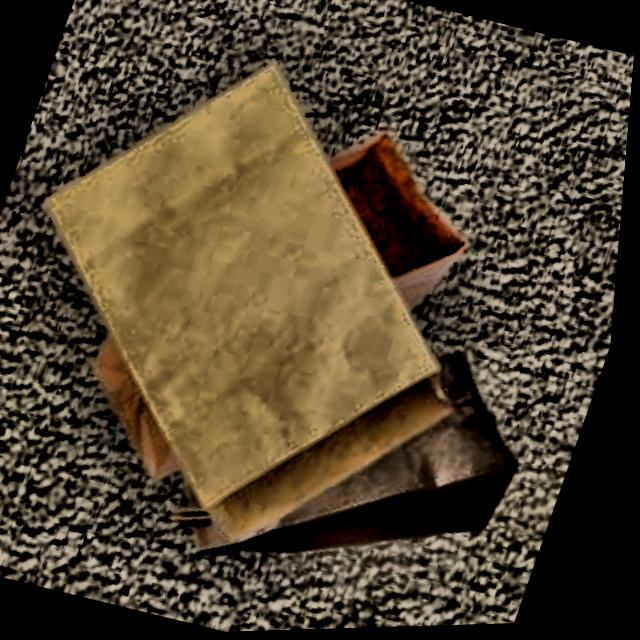Paper-bag: (0, 0, 575, 596), (51, 50, 530, 556), (132, 274, 578, 636)
